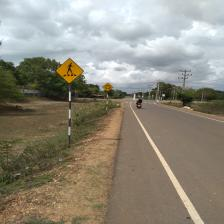yellowboard: (55, 57, 84, 84)
